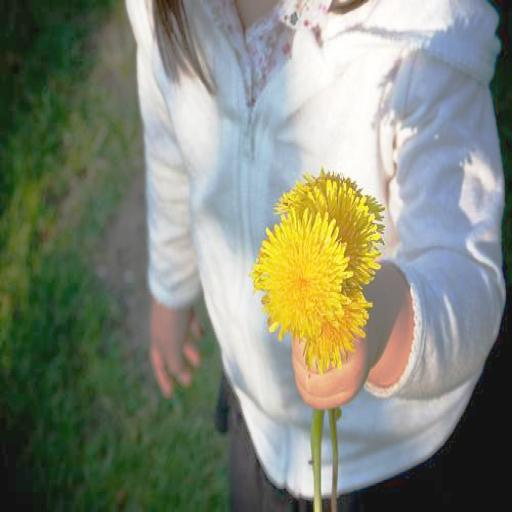dandelion: (256, 211, 342, 341)
